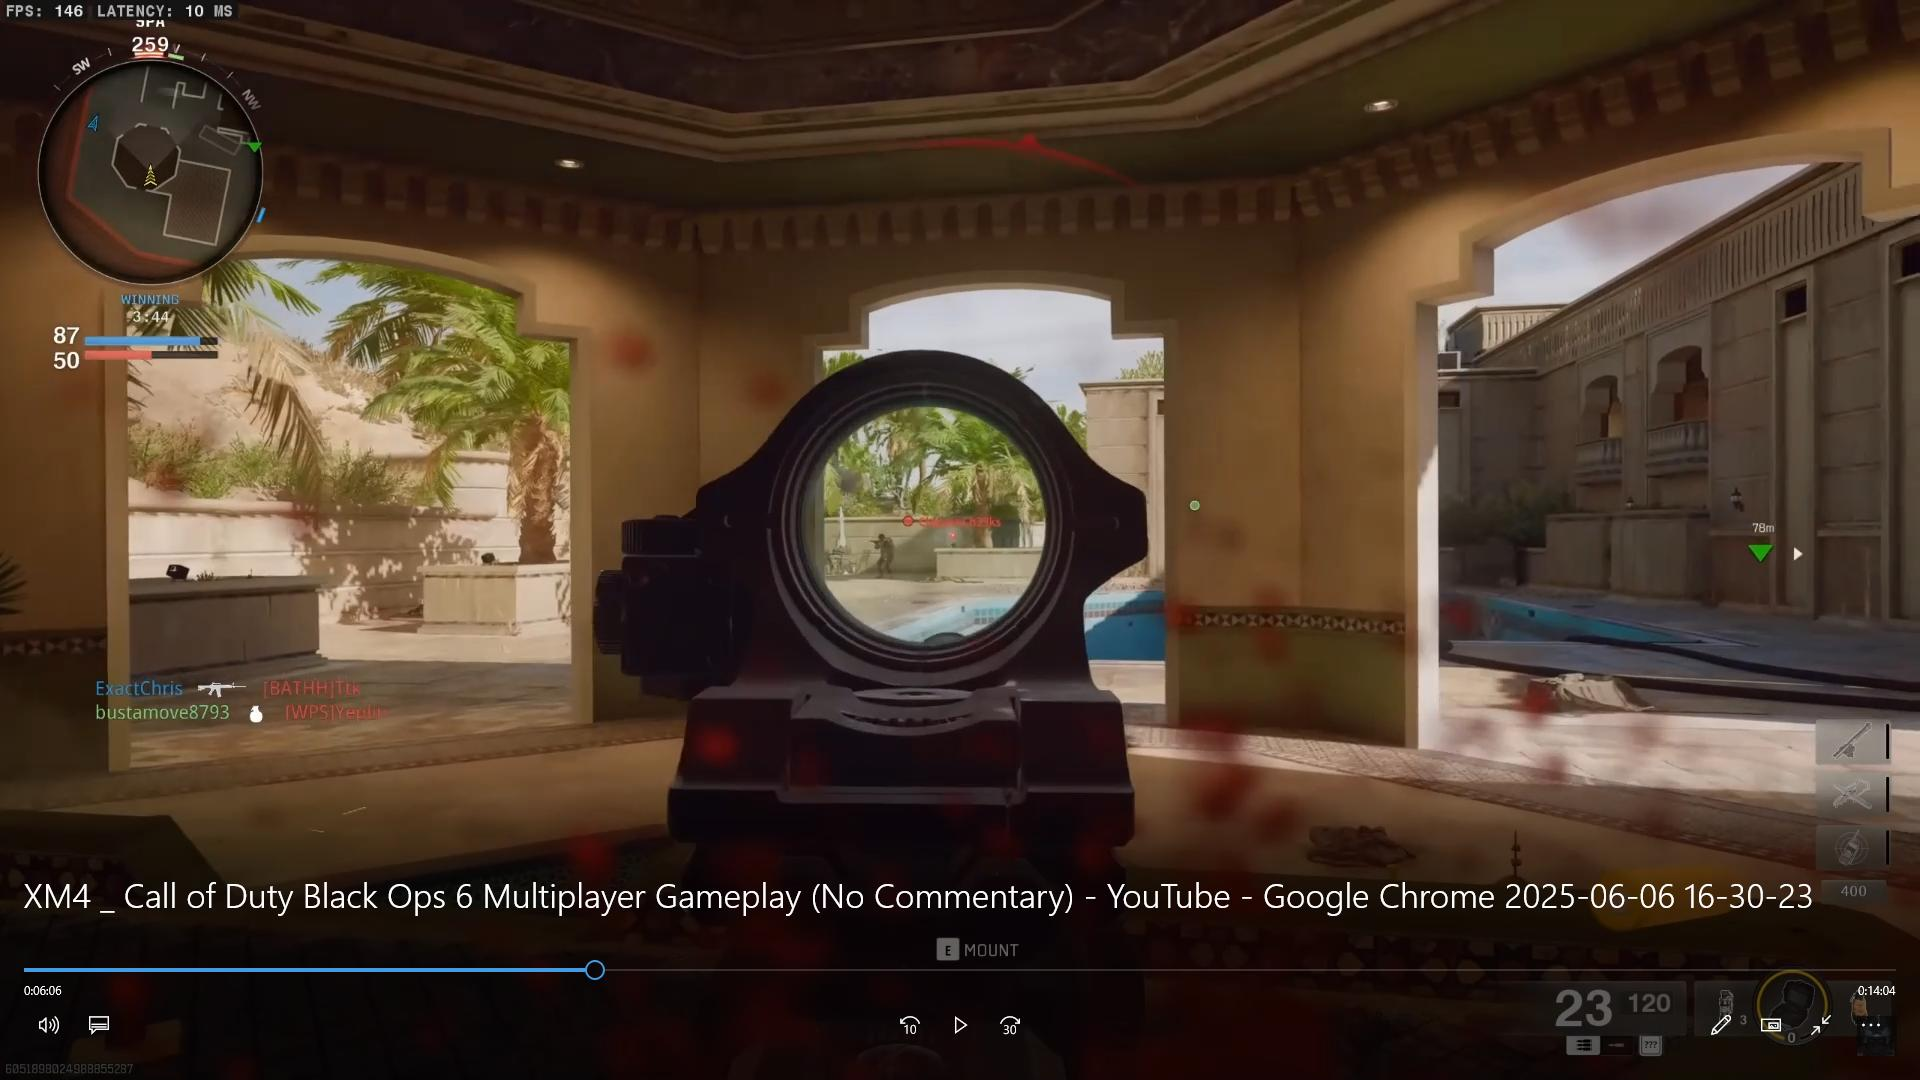Enemy: (866, 526, 901, 578), (940, 522, 969, 551)
